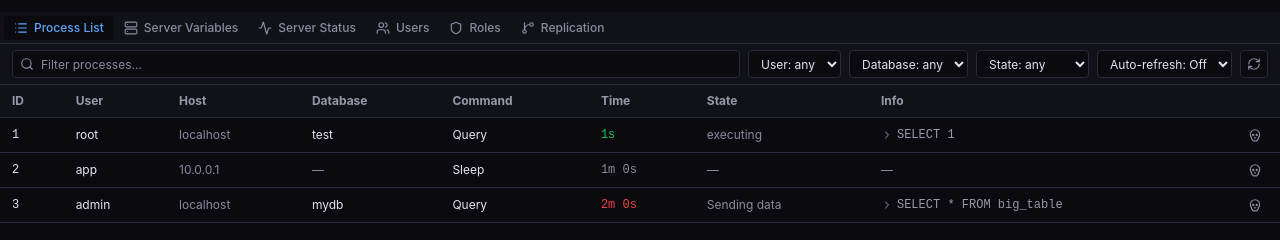
it: ProcessListTab › shows confirm kill on skull button click
Click the button titled "Kill process".
click(1255, 135)  # box [1244,124,1266,146]
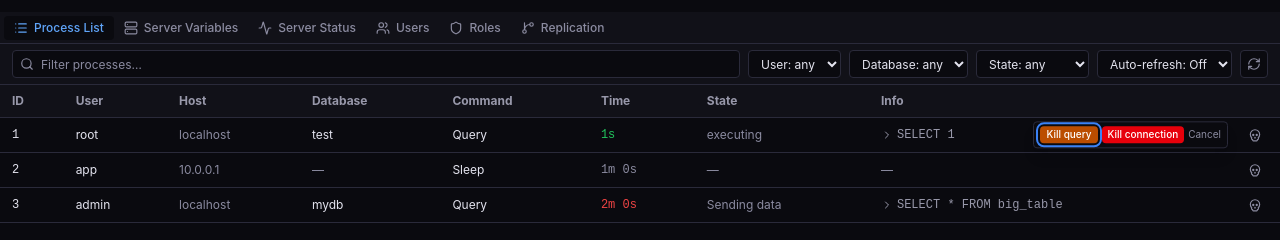
Result: the button "Kill connection" is shown at [1102,126,1184,144]
Result: the button "Kill query" is shown at [1040,126,1098,144]
Result: the button "Cancel" is shown at [1188,128,1221,142]
